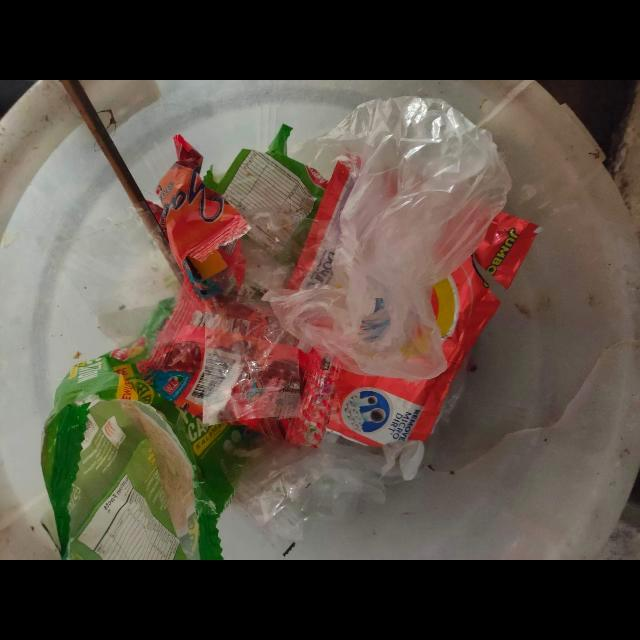food_wrapper: (42, 298, 245, 560), (141, 284, 339, 445), (202, 124, 328, 268), (148, 134, 251, 310)
plastic_bag: (266, 100, 512, 380)
plastic_sachet: (326, 212, 543, 446)
